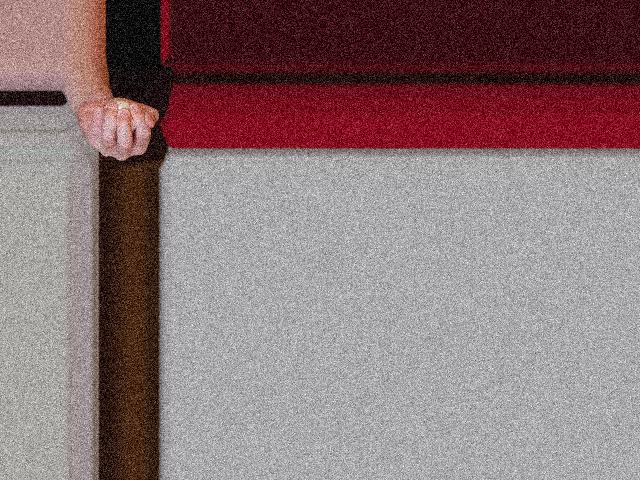egg: (104, 100, 139, 134)
